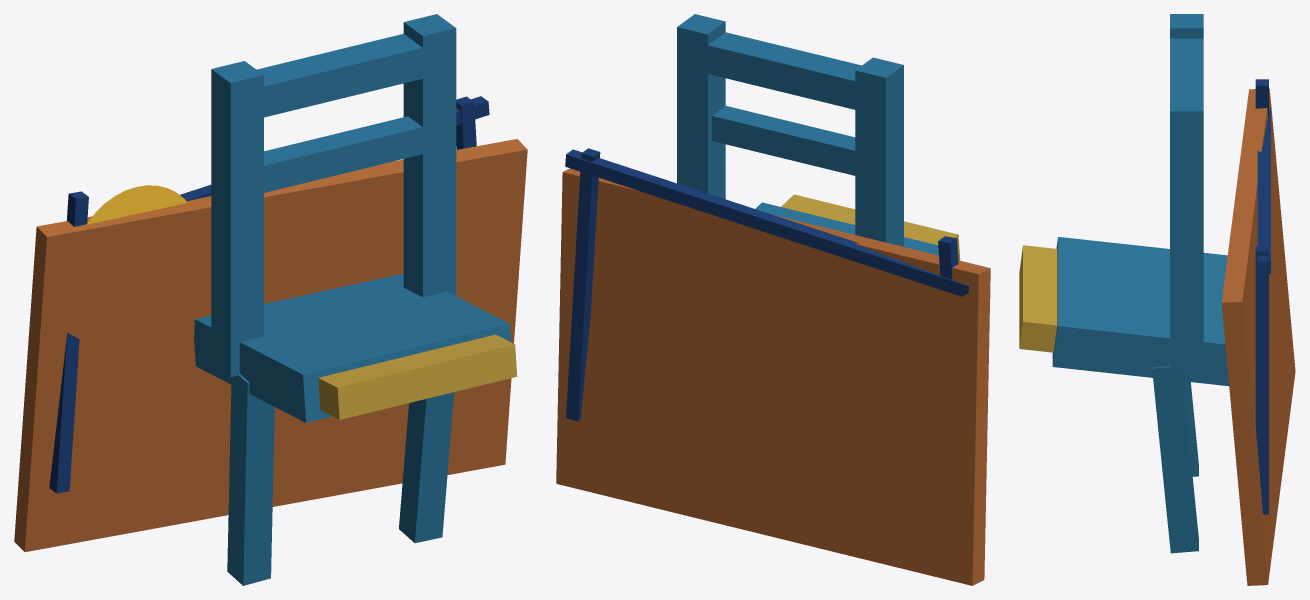
The model's file is aic-28560-v1.glb.
3 renders of one model, left to right at view 1: azimuth 30°, elevation 25°; view 2: azimuth 150°, elevation 25°; view 3: azimuth 270°, elevation 25°, orthographic. The views are drawn at different scales.
Visible parts, largest first — view 1: TiltedFloor, PaintedChairFrame, ChairSeat, RoomPerspectiveLines, RoomSun; view 2: TiltedFloor, PaintedChairFrame, RoomPerspectiveLines, ChairSeat; view 3: PaintedChairFrame, TiltedFloor, RoomPerspectiveLines, ChairSeat.
Boxes of the visible parts, bbox=[...] form: TiltedFloor: bbox=[14, 139, 527, 551]; PaintedChairFrame: bbox=[194, 14, 511, 585]; ChairSeat: bbox=[318, 334, 517, 419]; RoomPerspectiveLines: bbox=[49, 96, 489, 493]; RoomSun: bbox=[86, 185, 187, 224]; TiltedFloor: bbox=[556, 168, 990, 585]; PaintedChairFrame: bbox=[677, 14, 938, 255]; RoomPerspectiveLines: bbox=[565, 148, 969, 421]; ChairSeat: bbox=[781, 194, 960, 260]; PaintedChairFrame: bbox=[1052, 14, 1228, 553]; TiltedFloor: bbox=[1221, 88, 1295, 585]; RoomPerspectiveLines: bbox=[1255, 79, 1270, 514]; ChairSeat: bbox=[1019, 245, 1057, 352].
Bounding box in the file's own units: 1.28 × 1.31 × 0.7312.
